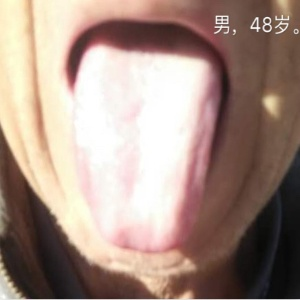st: (72, 51, 216, 256)
